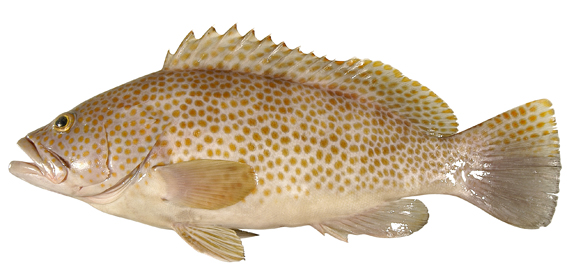fish: (8, 23, 563, 263)
